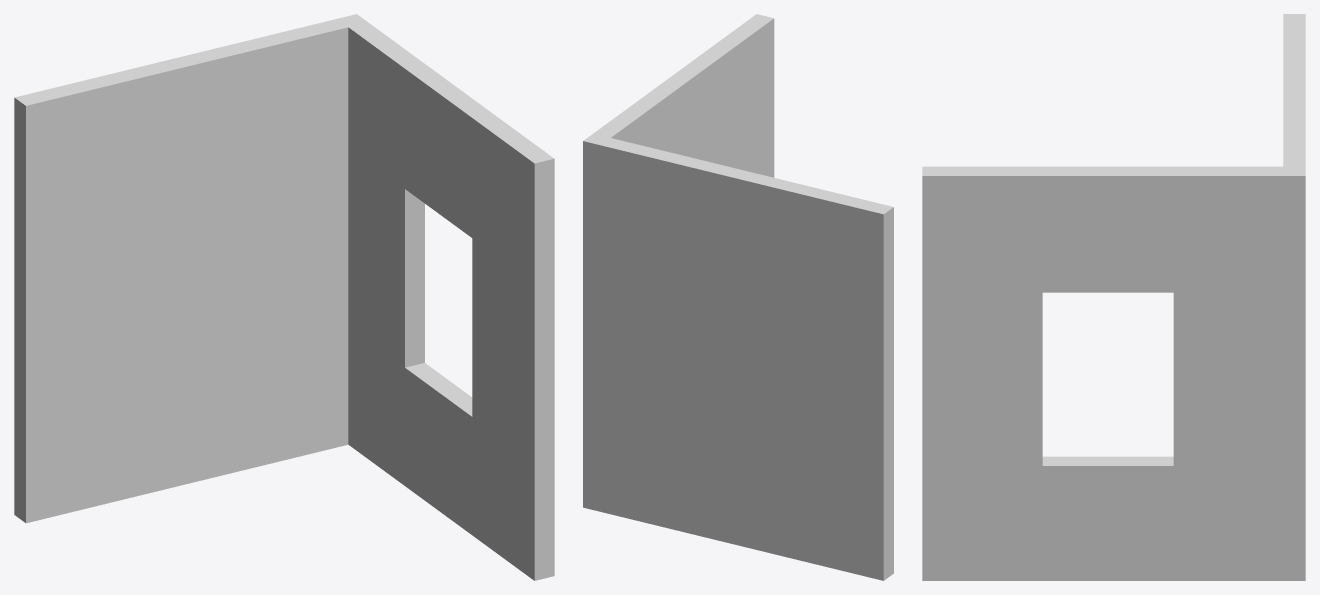
The model's file is Wall1_C1_08.fbx.
3 views of the same model, side by side, from view 1: azimuth 30°, elevation 25°; view 2: azimuth 150°, elevation 25°; view 3: azimuth 270°, elevation 25° (orthographic). The views are drawn at different scales.
Parts seen in each view (by area): view 1: Wall1_C1_08; view 2: Wall1_C1_08; view 3: Wall1_C1_08.
Boxes of the visible parts, x1,y1,x2,y2 form: Wall1_C1_08: (14, 14, 554, 580); Wall1_C1_08: (583, 14, 893, 580); Wall1_C1_08: (922, 14, 1305, 580).
Bounding box in the file's own units: 258 × 300 × 258.
